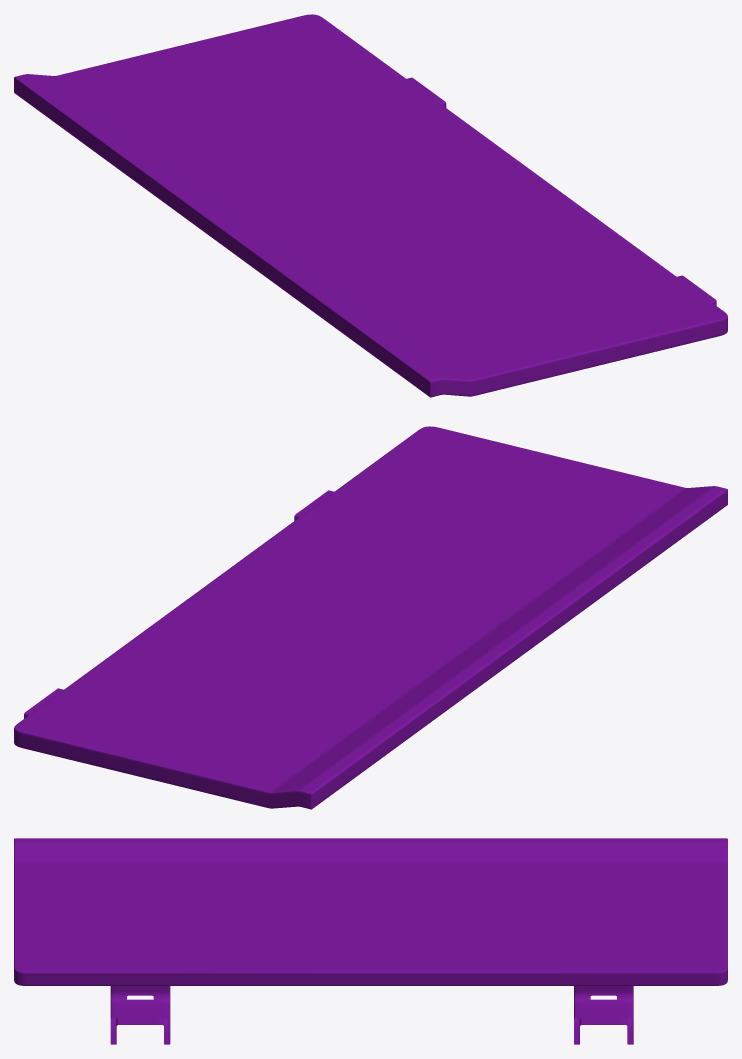
Rendered from SM_Kaffeemaschine_WasserbehaelterDeckel.fbx.
The picture shows the model from 3 angles, top to bottom: view 1: azimuth 30°, elevation 25°; view 2: azimuth 150°, elevation 25°; view 3: azimuth 270°, elevation 25°; orthographic projection. The views are drawn at different scales.
Parts seen in each view (by area): view 1: SM_Kaffeemaschine_WasserbehaelterDeckel; view 2: SM_Kaffeemaschine_WasserbehaelterDeckel; view 3: SM_Kaffeemaschine_WasserbehaelterDeckel.
Boxes of the visible parts, x1,y1,x2,y2 form: SM_Kaffeemaschine_WasserbehaelterDeckel: (14,14,727,397); SM_Kaffeemaschine_WasserbehaelterDeckel: (14,426,727,809); SM_Kaffeemaschine_WasserbehaelterDeckel: (14,838,727,1044).
Bounding box in the file's own units: 9 × 1.85 × 18.94.
